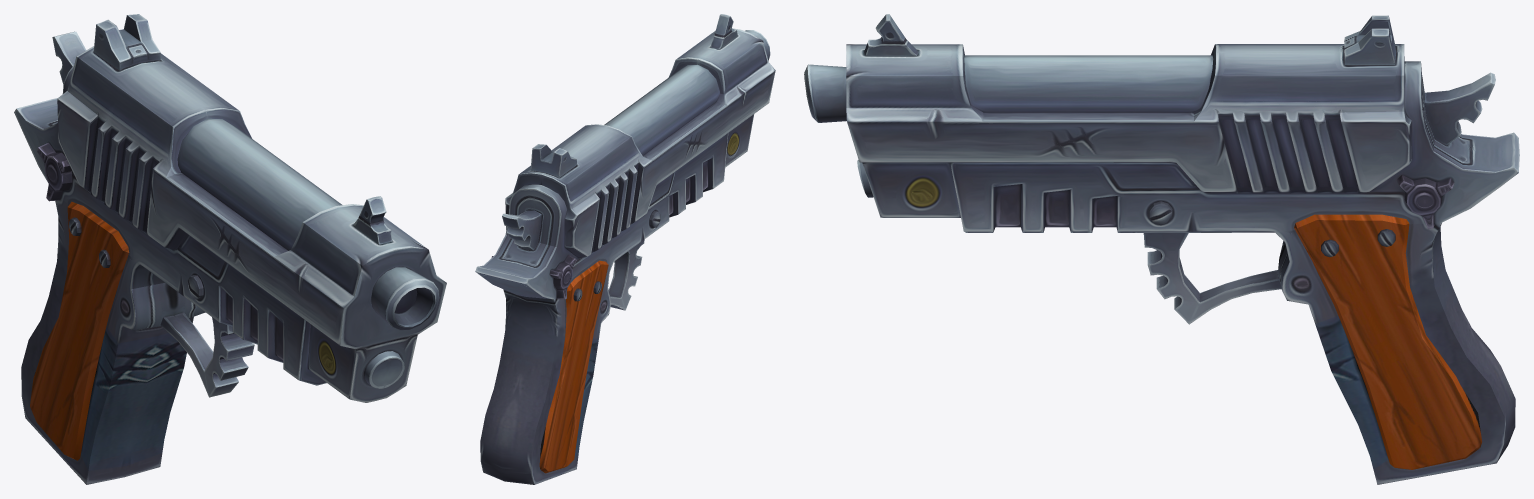
File: Stylized_Pistol-1 (1).FBX
The picture shows the model from 3 angles, left to right: view 1: azimuth 30°, elevation 25°; view 2: azimuth 150°, elevation 25°; view 3: azimuth 270°, elevation 25°; orthographic projection. The views are drawn at different scales.
Visible parts, largest first — view 1: Stylized_Pistol_Body; view 2: Stylized_Pistol_Body; view 3: Stylized_Pistol_Body.
Boxes of the visible parts, <box> form: Stylized_Pistol_Body: <box>14,14,446,484</box>; Stylized_Pistol_Body: <box>475,14,775,484</box>; Stylized_Pistol_Body: <box>804,14,1519,484</box>.
Size of the model in its own units: 7.49 by 32.04 by 46.07.
Materials: 1 (1 with a texture image).
